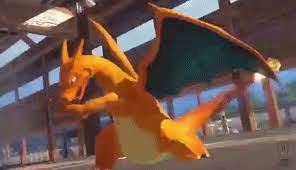charizard: (56, 2, 283, 164)
